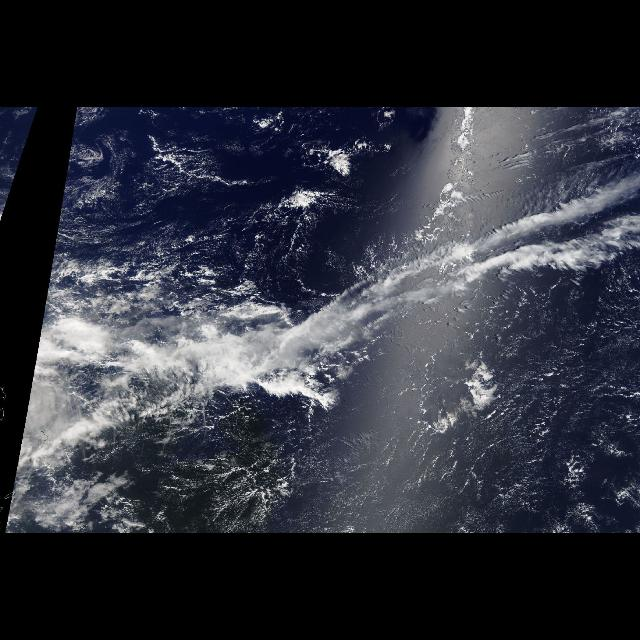Sugar: (149, 302, 639, 534), (52, 118, 340, 272)
